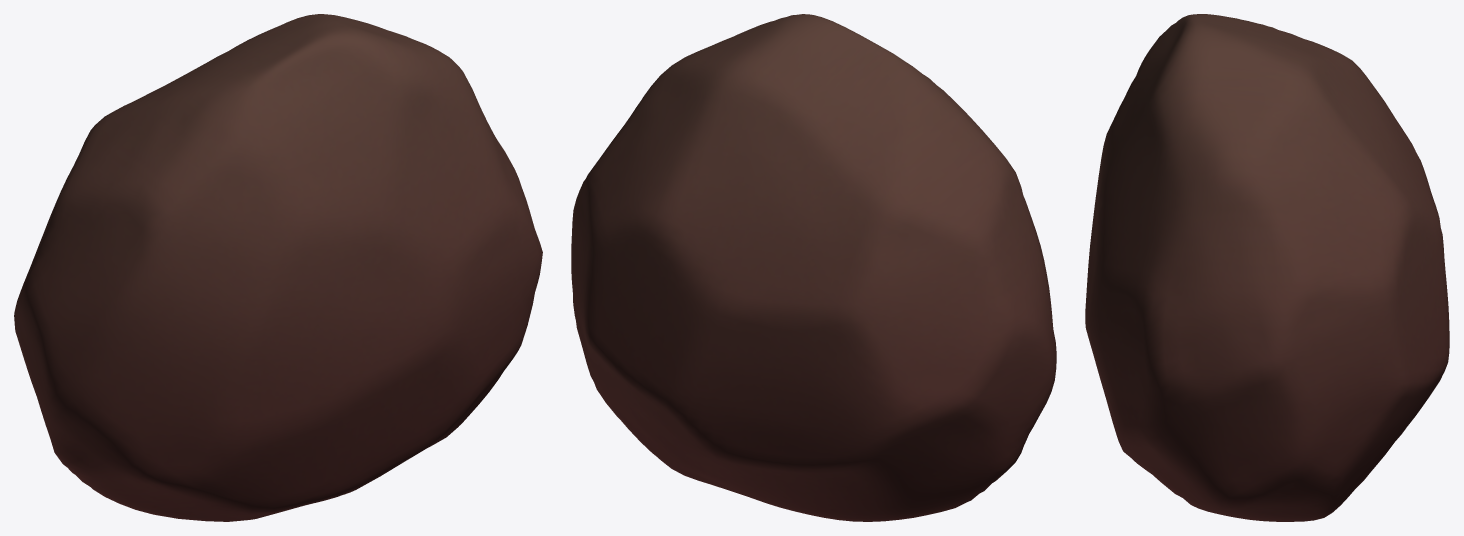
File: Rock2_Textured.fbx
3 views of the same model, side by side, from view 1: azimuth 30°, elevation 25°; view 2: azimuth 150°, elevation 25°; view 3: azimuth 270°, elevation 25° (orthographic). The views are drawn at different scales.
Visible parts, largest first — view 1: Burned_tree1_LowPoly:Group52278; view 2: Burned_tree1_LowPoly:Group52278; view 3: Burned_tree1_LowPoly:Group52278.
Boxes of the visible parts, <box> form: Burned_tree1_LowPoly:Group52278: <box>14,14,542,521</box>; Burned_tree1_LowPoly:Group52278: <box>571,14,1056,521</box>; Burned_tree1_LowPoly:Group52278: <box>1085,14,1449,521</box>.
Bounding box in the file's own units: 1.63 × 1.51 × 1.07.
1 material, 1 textured.
